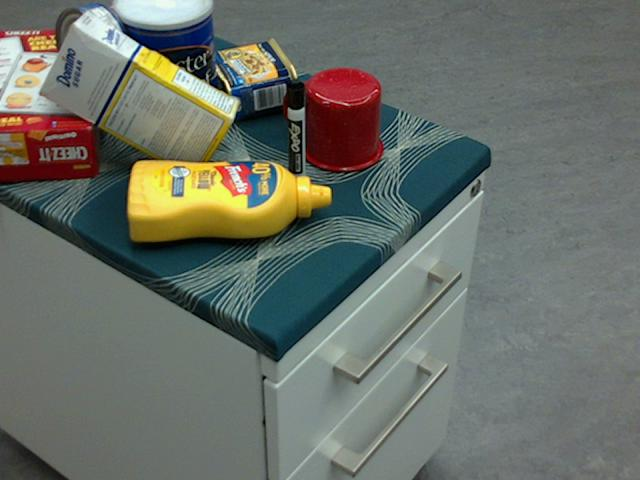cracker_box: (0, 30, 104, 180)
gelatin_box: (78, 0, 168, 57)
large_marker: (286, 78, 305, 186)
master_chef_can: (114, 0, 216, 139)
mug: (284, 67, 381, 171)
mustard_bottle: (126, 160, 331, 241)
potted_meat_can: (204, 37, 299, 120)
sugar_box: (40, 12, 241, 178)
tomato_soup_can: (120, 0, 214, 85)
tuna_fish_can: (55, 3, 131, 90)
